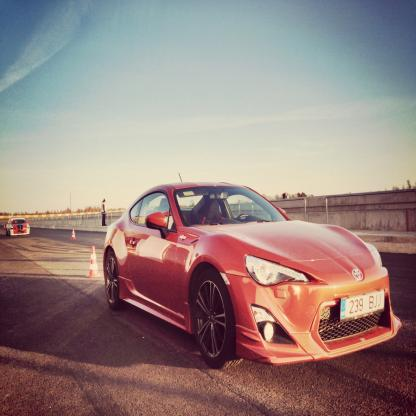Car: (102, 172, 402, 370), (4, 215, 30, 237)
